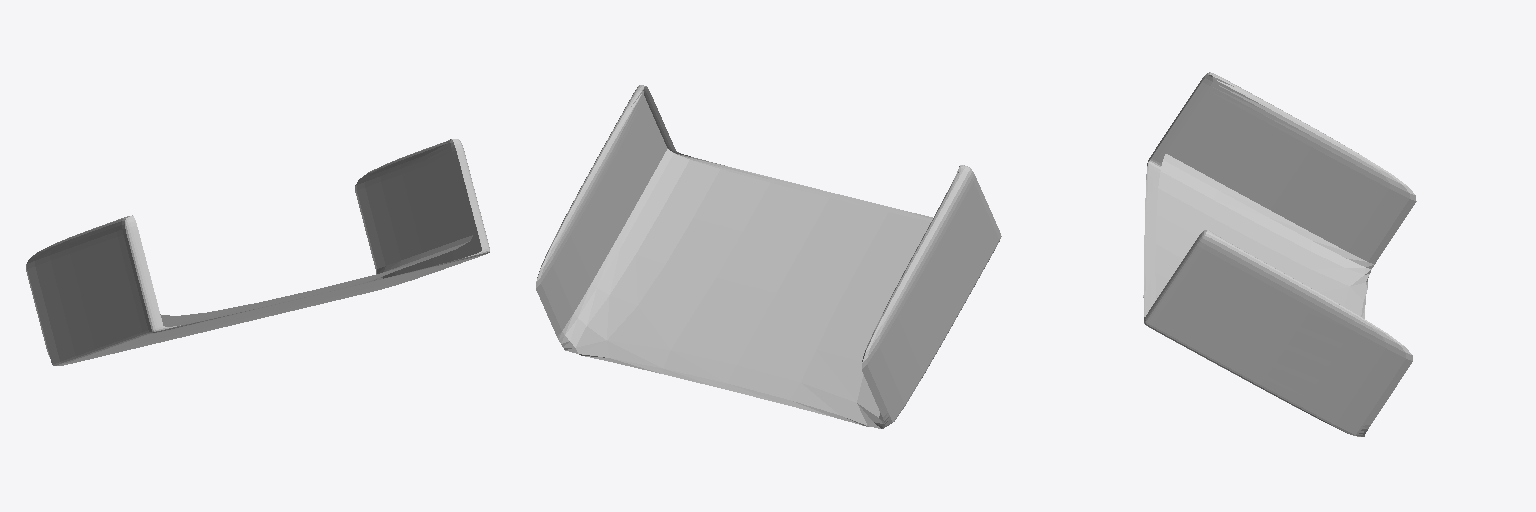
Rendered from slide.obj.
3 renders of one model, left to right at view 1: azimuth 30°, elevation 25°; view 2: azimuth 150°, elevation 25°; view 3: azimuth 270°, elevation 25°, orthographic.
Visible parts, largest first — view 1: pCube13; view 2: pCube13; view 3: pCube13.
Part boxes in pixels (x1,y1,x2,y2): pCube13: (26, 139, 489, 365); pCube13: (536, 85, 1001, 428); pCube13: (1143, 72, 1416, 436).
Bounding box in the file's own units: 0.6939 × 0.4081 × 0.484.